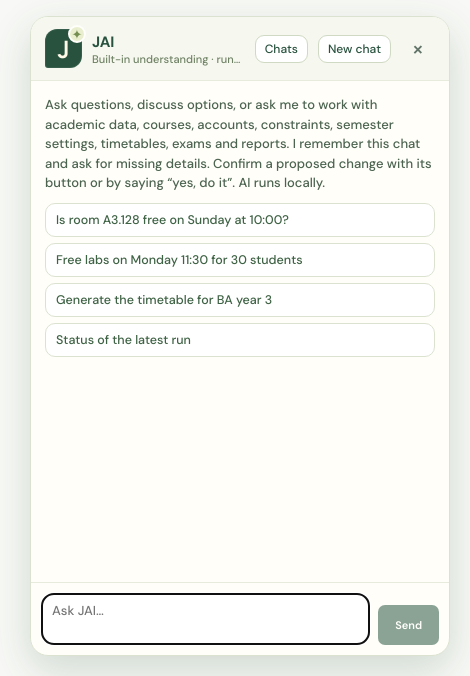
a command runs only after confirming, and the chat records it
The image size is (470, 676).
Click the button "Generate the timetable for BA year 3" at (240, 300), box [45,282,435,316]
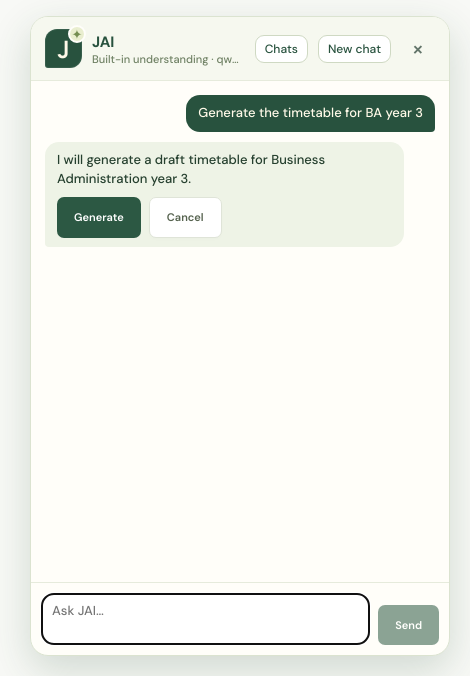
Click the button "Generate" at (99, 217), box [57,196,141,238]
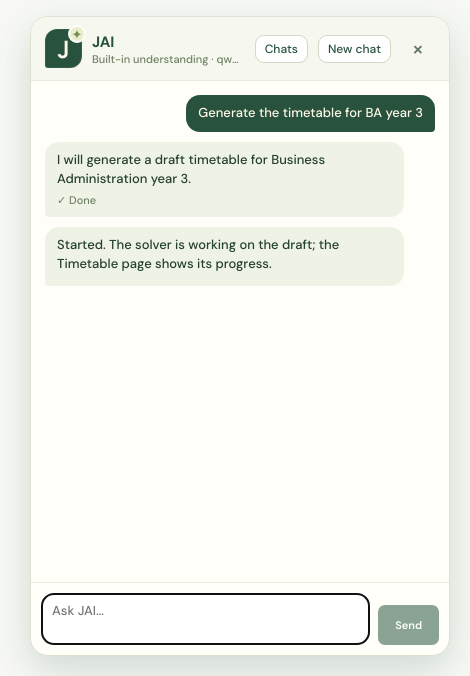
expect the text "Started. The solver is working" is shown: met, box [57,236,342,272]
